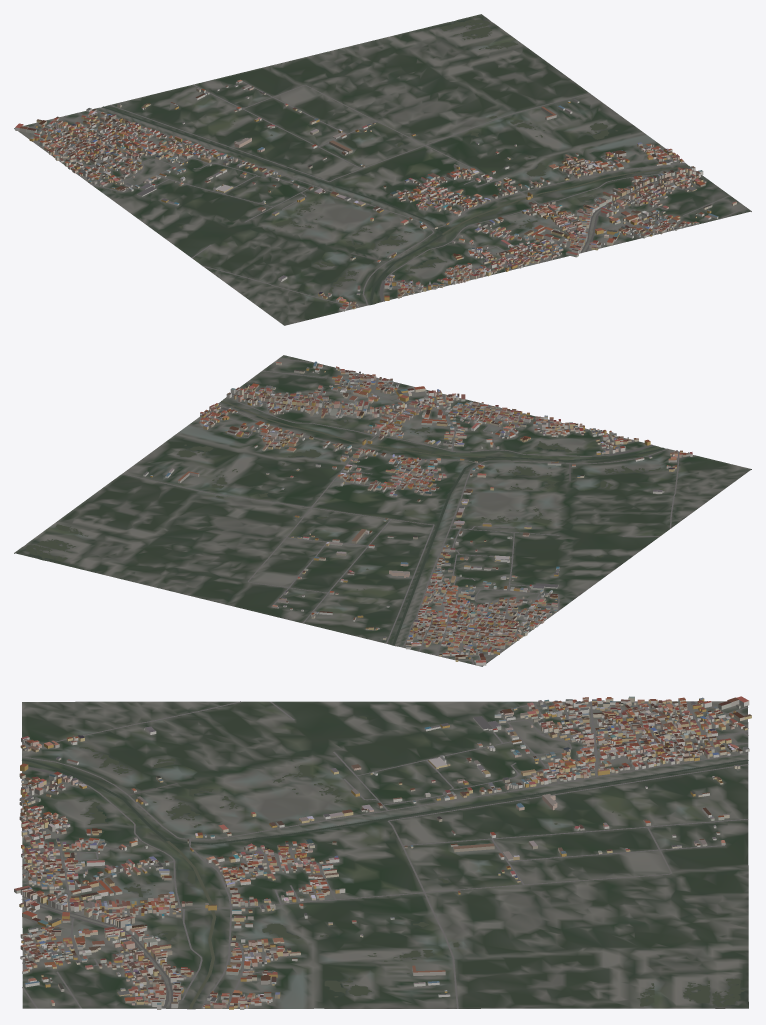
3 renders of one model, top to bottom at view 1: azimuth 30°, elevation 25°; view 2: azimuth 150°, elevation 25°; view 3: azimuth 270°, elevation 25°, orthographic. The views are drawn at different scales.
Parts seen in each view (by area): view 1: ground, buildings, roads, water; view 2: ground, buildings, roads, water; view 3: ground, buildings, roads, water.
Part boxes in pixels (box(x1,y1,x2,y2)): ground: box(14, 14, 751, 325); buildings: box(15, 79, 736, 311); roads: box(23, 81, 746, 310); water: box(102, 19, 689, 304); ground: box(14, 355, 751, 666); buildings: box(143, 361, 692, 665); roads: box(122, 358, 679, 664); water: box(25, 400, 664, 645); ground: box(22, 701, 748, 1009); buildings: box(14, 696, 751, 1009); roads: box(21, 701, 748, 1008); water: box(22, 716, 748, 1008).
Size of the model in its own units: 1413 by 21.97 by 1425.
